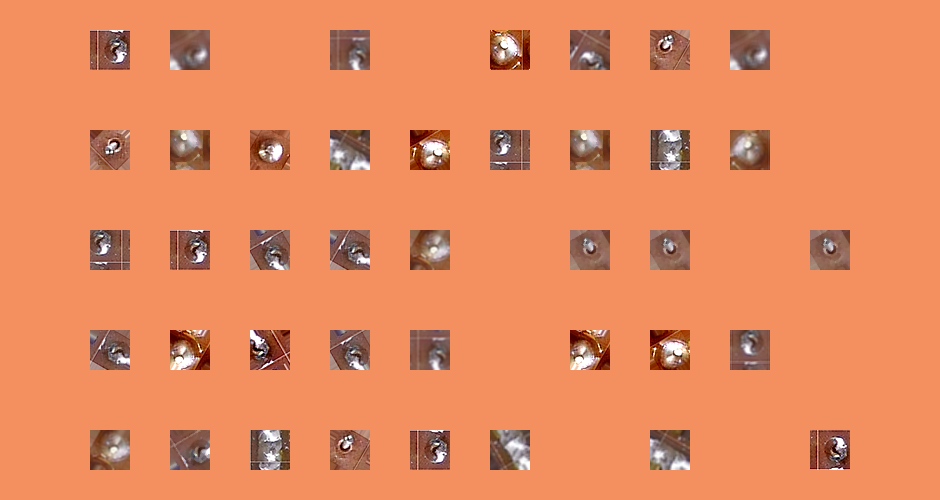Soldas_ausente: (650, 30, 690, 70), (90, 130, 130, 170), (570, 230, 610, 270), (650, 230, 690, 270), (810, 230, 850, 270), (330, 430, 370, 470)
Soldas_boas: (250, 130, 290, 170)
Soldas_excesso: (490, 30, 530, 70), (170, 130, 210, 170), (410, 130, 450, 170), (570, 130, 610, 170), (730, 130, 770, 170), (410, 230, 450, 270), (170, 330, 210, 370), (570, 330, 610, 370), (650, 330, 690, 370), (90, 430, 130, 470)
Soldas_ponte: (330, 130, 370, 170), (650, 130, 690, 170), (250, 430, 290, 470), (490, 430, 530, 470), (650, 430, 690, 470)
Soldas_pouca: (90, 30, 130, 70), (170, 30, 210, 70), (330, 30, 370, 70), (570, 30, 610, 70), (730, 30, 770, 70), (490, 130, 530, 170), (90, 230, 130, 270), (170, 230, 210, 270), (250, 230, 290, 270), (330, 230, 370, 270), (90, 330, 130, 370), (250, 330, 290, 370), (330, 330, 370, 370), (410, 330, 450, 370), (730, 330, 770, 370), (170, 430, 210, 470), (410, 430, 450, 470), (810, 430, 850, 470)
